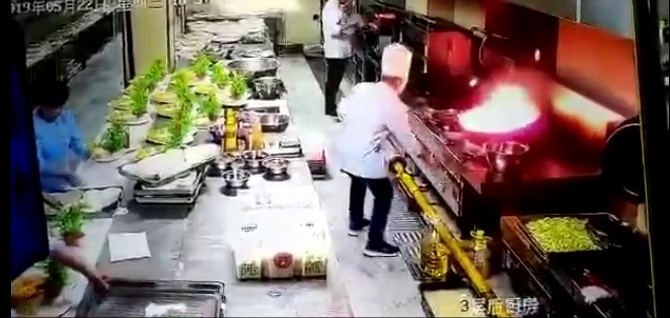fire: (466, 80, 537, 134)
